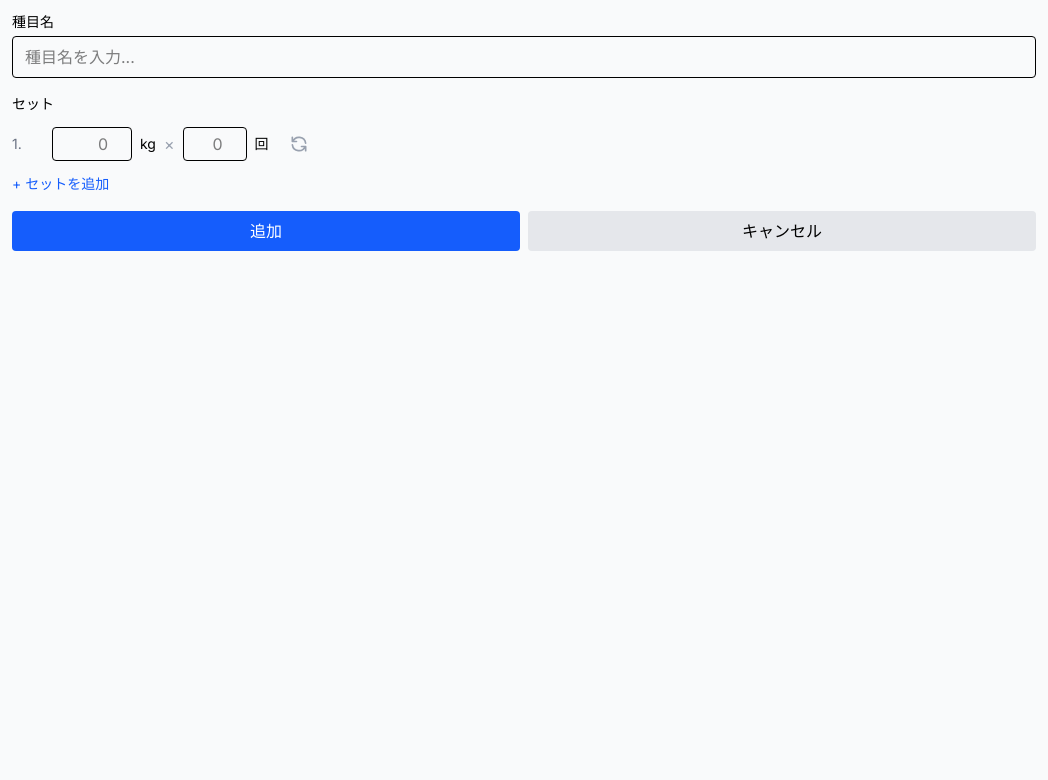
it: ExerciseForm › バリデーション › 回数が0以下の場合、アラートを表示する
This screenshot has width=1048, height=780.
Type "ベンチプレス" into the field with placeholder "種目名を入力...".
click(524, 57); type("ベンチプレス")  # box [12,36,1036,78]
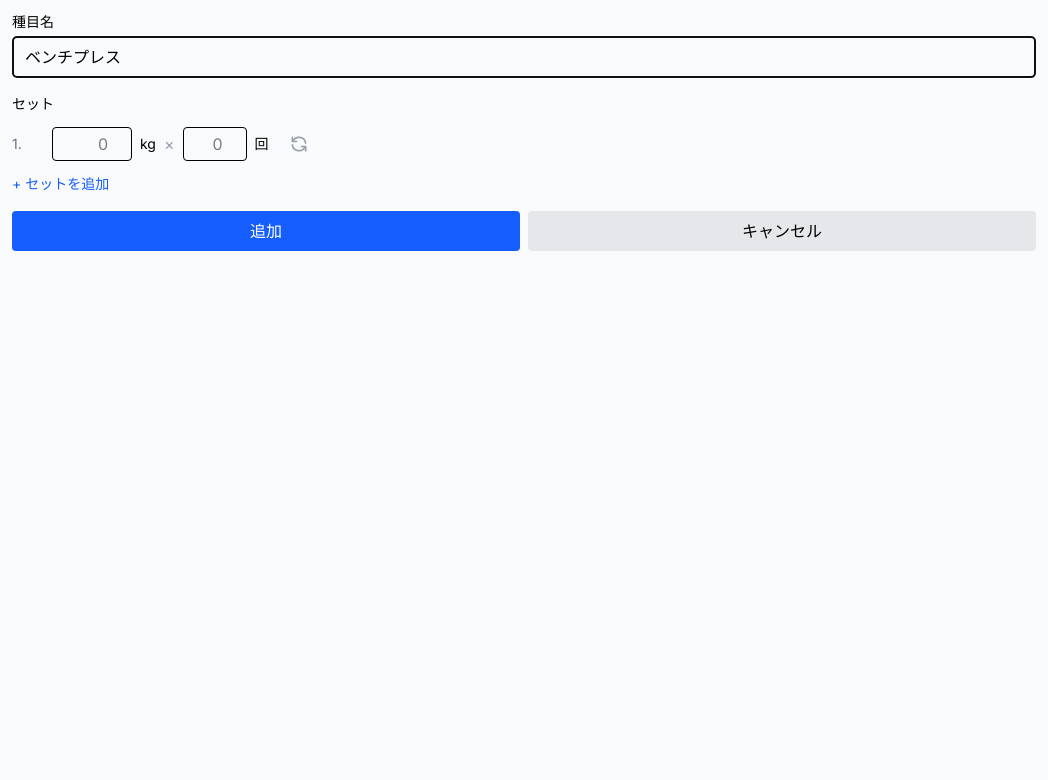
Click the button "追加".
click(266, 231)  # box [12,211,520,251]
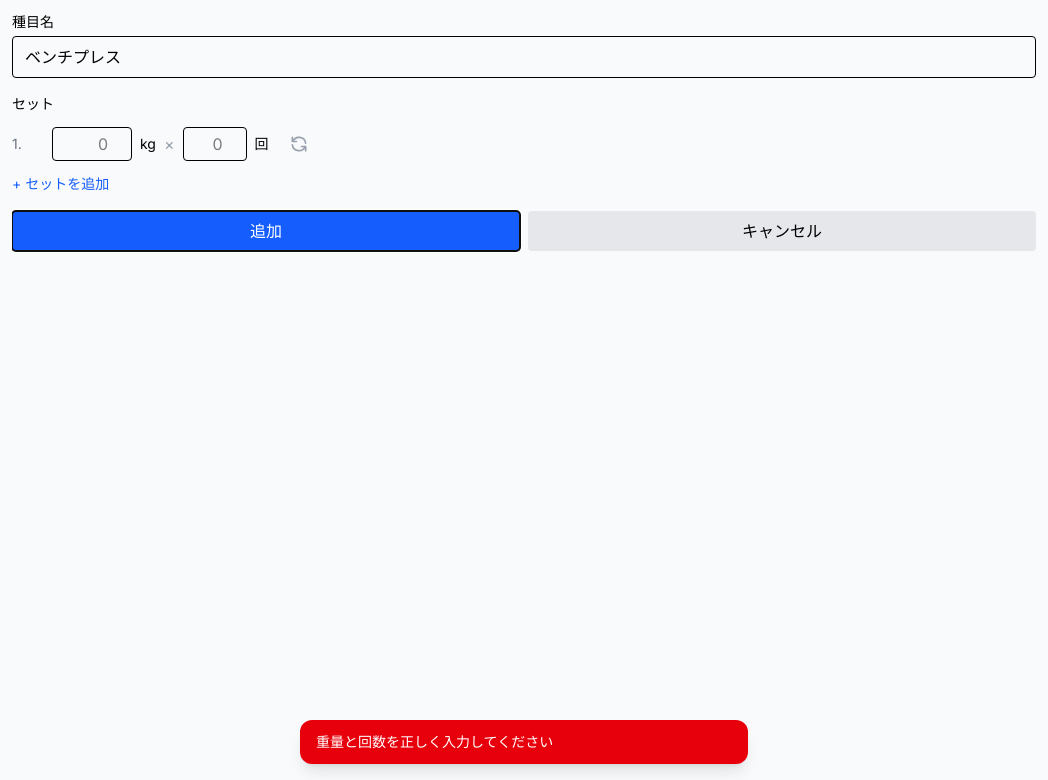
Now the text "重量と回数を正しく入力してください" is shown, box [300,720,748,764]
